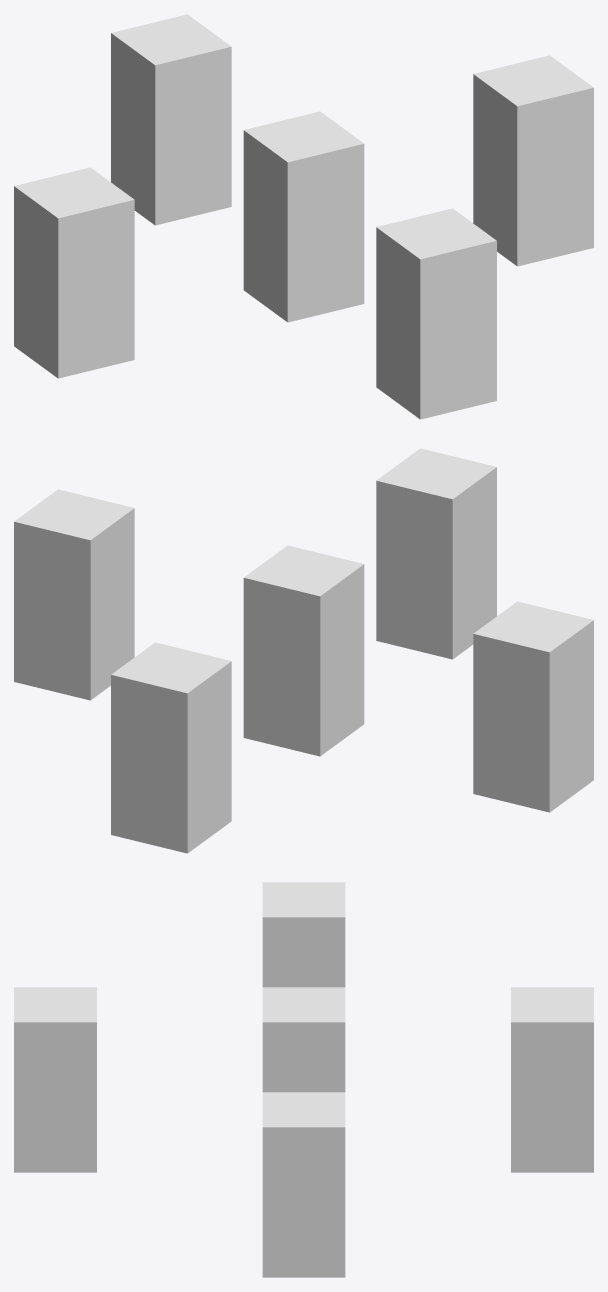
The model's file is church-38-candelabrawhite.obj.
3 renders of one model, top to bottom at view 1: azimuth 30°, elevation 25°; view 2: azimuth 150°, elevation 25°; view 3: azimuth 270°, elevation 25°, orthographic. The views are drawn at different scales.
Visible parts, largest first — view 1: candelabrawhite; view 2: candelabrawhite; view 3: candelabrawhite.
Boxes of the visible parts, x1,y1,x2,y2 form: candelabrawhite: [14, 14, 593, 419]; candelabrawhite: [14, 448, 593, 853]; candelabrawhite: [14, 882, 593, 1277].
Size of the model in its own units: 0.7 by 0.2 by 0.7.
Materials: 1 (1 with a texture image).
